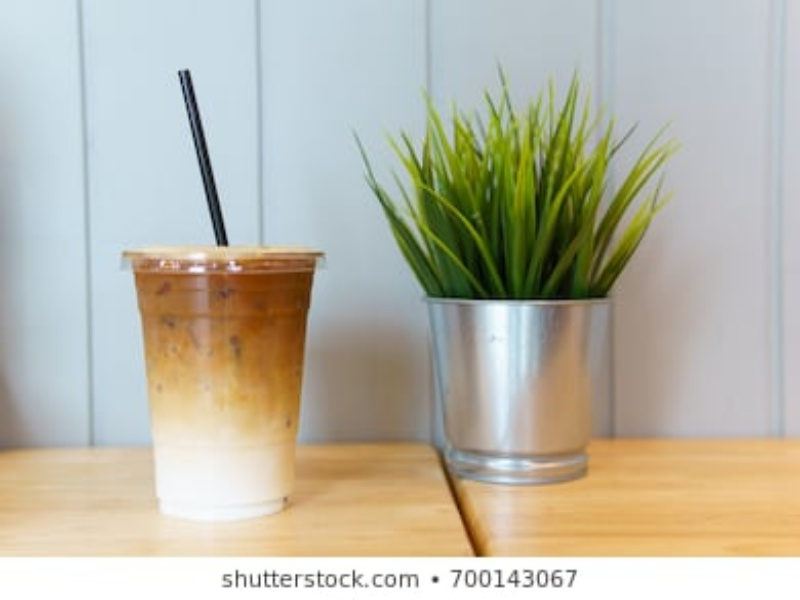plastic-cup: (116, 243, 329, 524)
straw: (168, 66, 236, 252)
